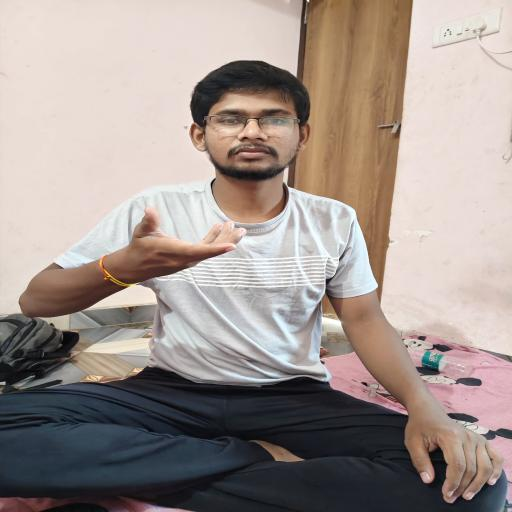Help: (48, 200, 288, 319)
